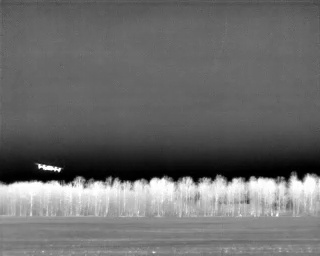DRONE: (32, 158, 66, 177)
